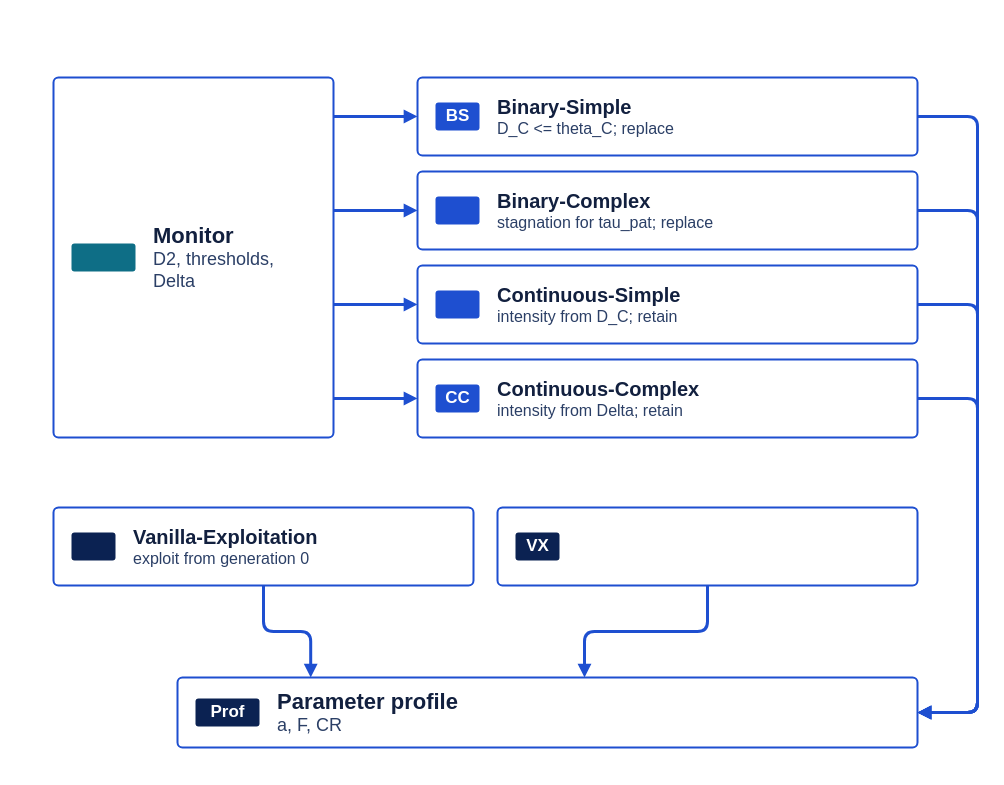
This 1004x785 diagram has some shape labels left out. The shapes that lost their labels are listed below. From the top down, each one's box as (x1, y1, x2, y2) in pixels, then its label:
(435, 196, 479, 224): BC
(71, 243, 135, 271): Mon
(435, 290, 479, 318): CS
(71, 532, 115, 560): VE
(496, 506, 918, 586): Vanilla-Exploration explore from generation 0
